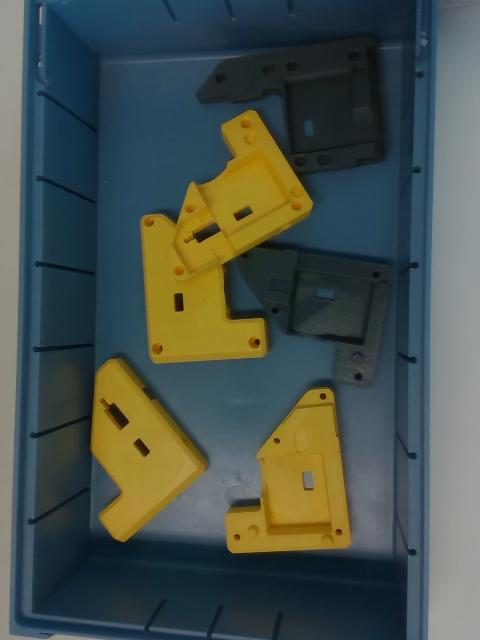1Agray: (238, 240, 391, 392)
1Ayellow: (225, 384, 357, 556), (133, 215, 269, 365)
1Byellow: (170, 109, 321, 283), (95, 358, 209, 545)
3Bgray: (195, 41, 394, 176)
